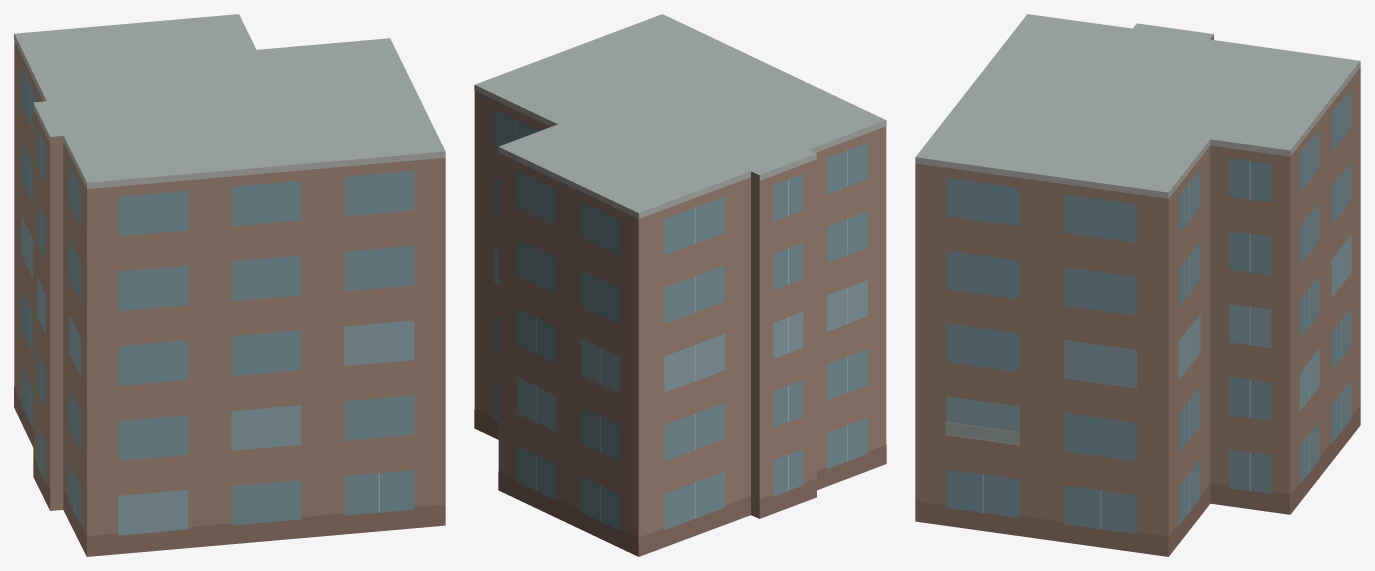
File: survey-upis-32698095.glb
The picture shows the model from 3 angles, left to right: view 1: azimuth 30°, elevation 25°; view 2: azimuth 150°, elevation 25°; view 3: azimuth 270°, elevation 25°; orthographic projection. The views are drawn at different scales.
Parts seen in each view (by area): view 1: survey-upis-32698095.tmp; view 2: survey-upis-32698095.tmp; view 3: survey-upis-32698095.tmp.
Boxes of the visible parts, x1,y1,x2,y2 form: survey-upis-32698095.tmp: [14, 14, 445, 556]; survey-upis-32698095.tmp: [474, 14, 886, 556]; survey-upis-32698095.tmp: [915, 14, 1360, 556].
Bounding box in the file's own units: 15.26 × 14.5 × 16.07.
